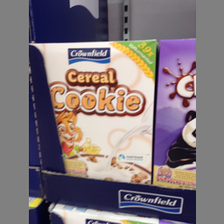cereal: (30, 39, 156, 185), (154, 40, 195, 188)
